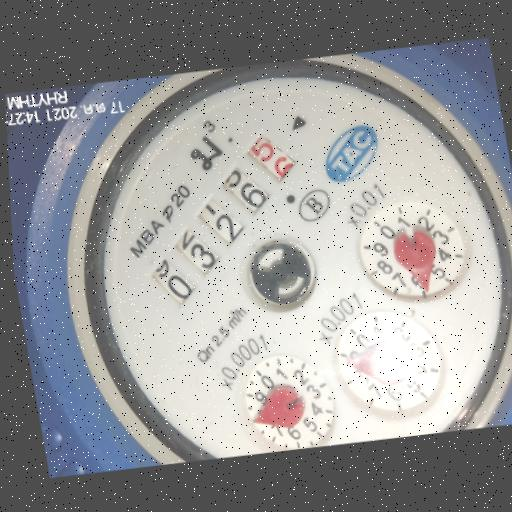0: (149, 257, 197, 308)
2: (196, 196, 248, 248)
3: (173, 227, 221, 278)
5: (246, 132, 298, 185)
6: (220, 164, 272, 215)
border_water_meter_number: (119, 122, 326, 315)
